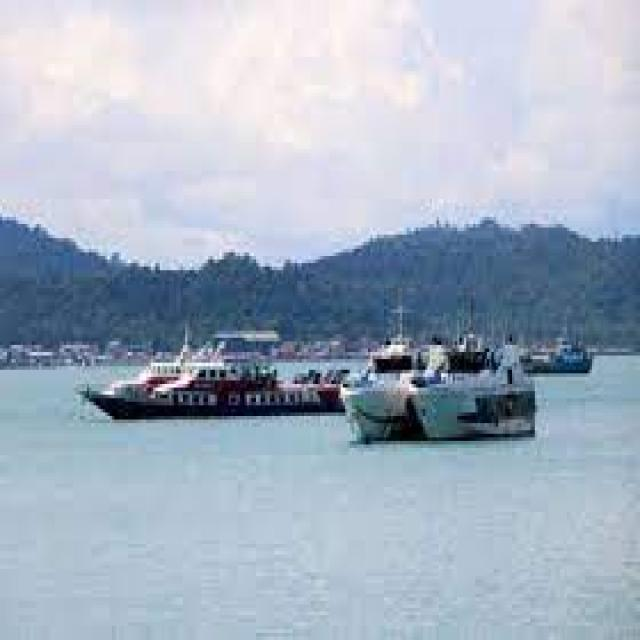houseboat: (406, 346, 540, 444)
passenger ship: (73, 309, 338, 420)
